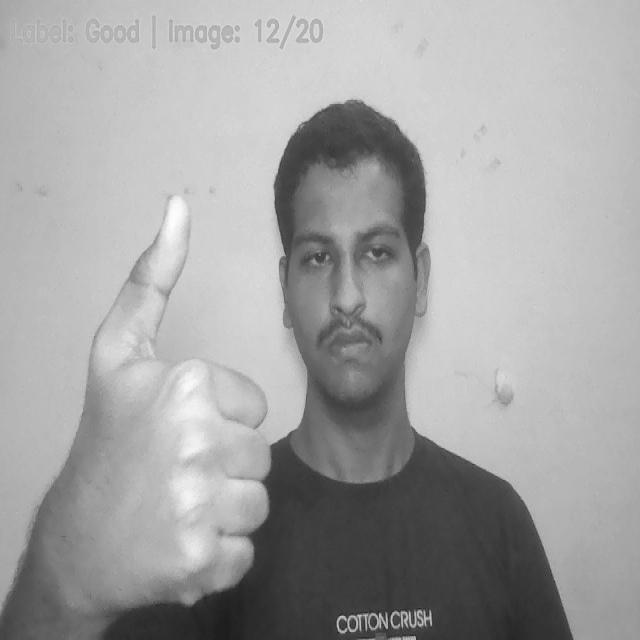Good: (47, 192, 271, 606)
